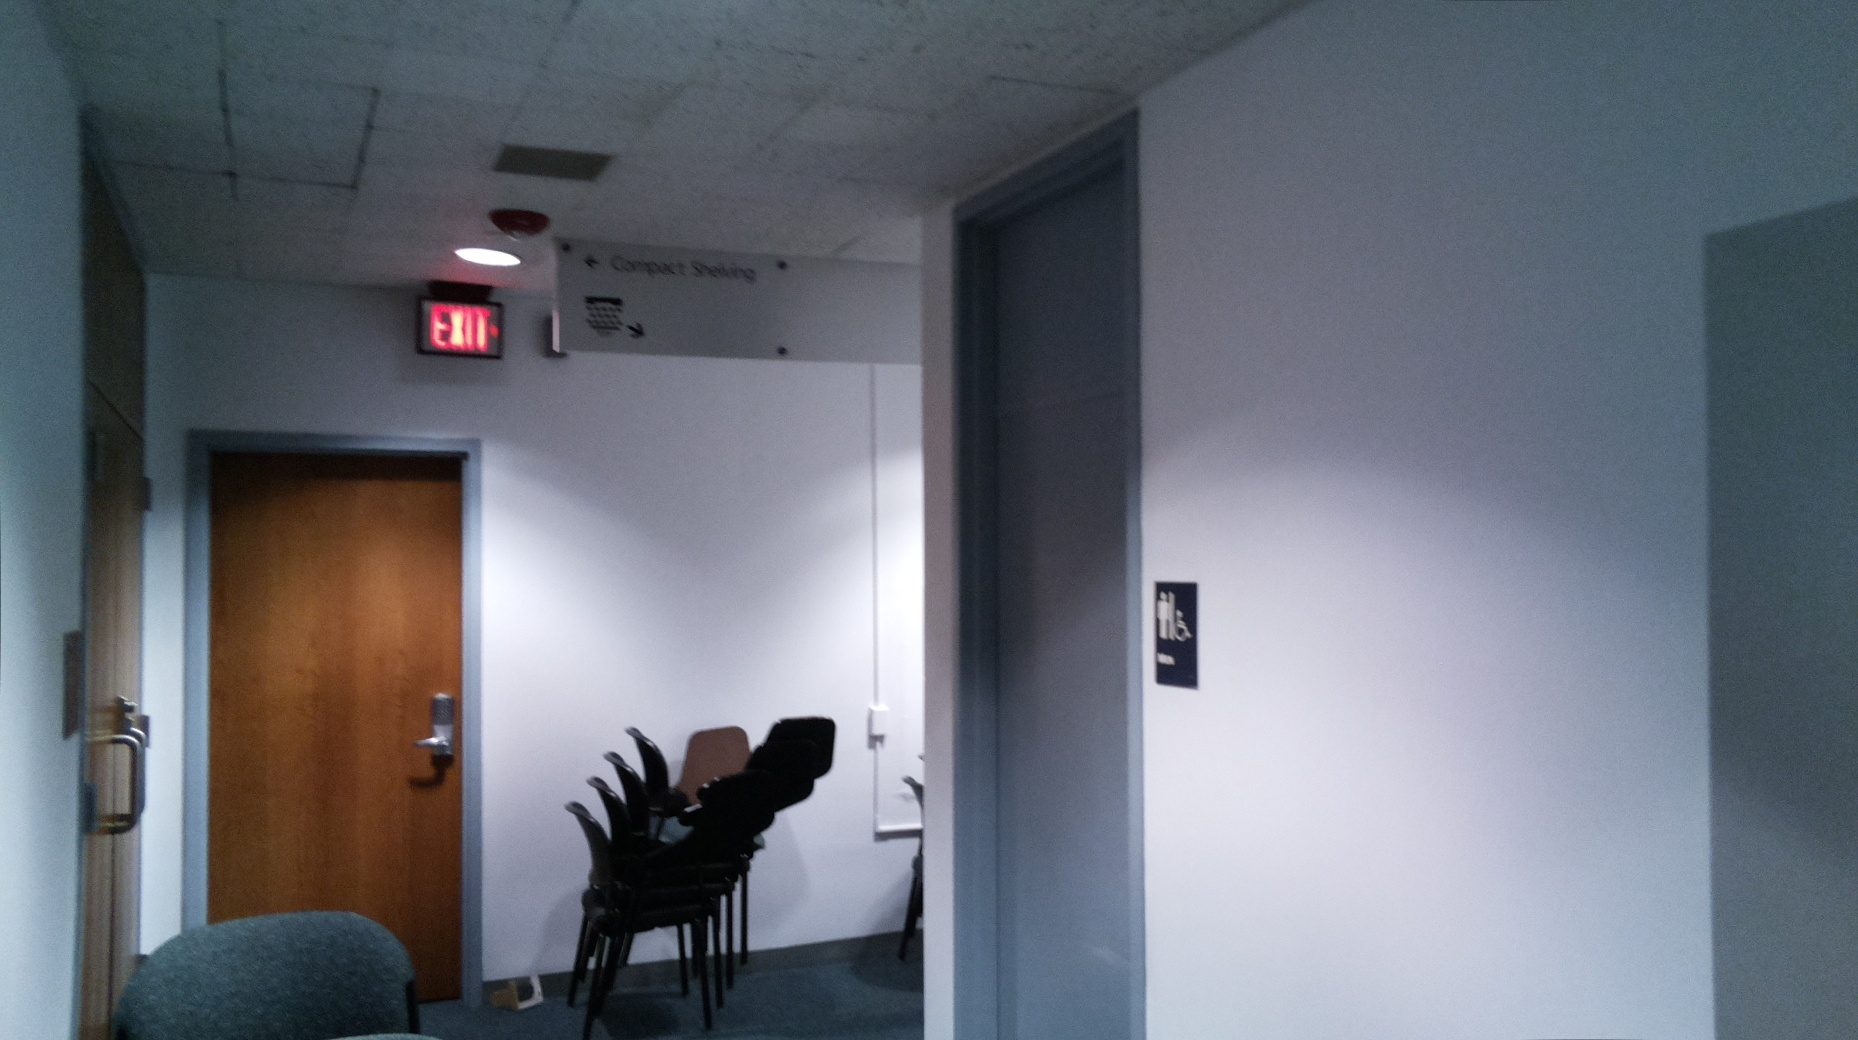bathroom sign: (1152, 579, 1200, 692)
exit sign: (412, 293, 507, 361)
